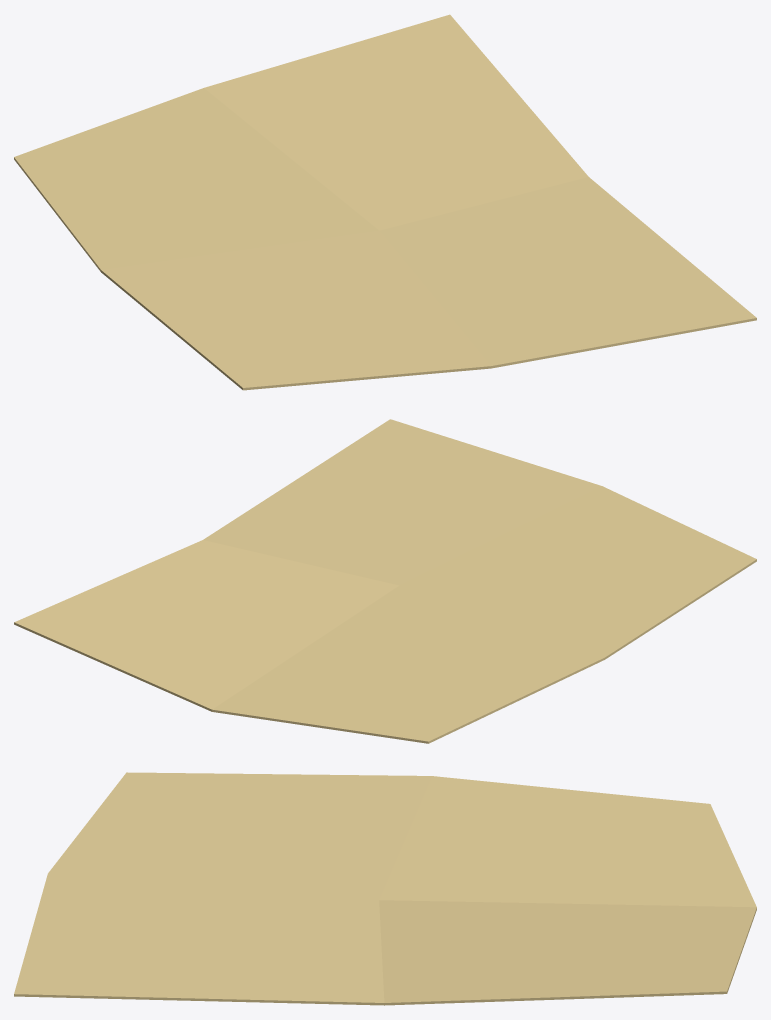
Rendered from Paper_003.fbx.
3 renders of one model, top to bottom at view 1: azimuth 30°, elevation 25°; view 2: azimuth 150°, elevation 25°; view 3: azimuth 270°, elevation 25°, orthographic. The views are drawn at different scales.
Visible parts, largest first — view 1: Paper_003; view 2: Paper_003; view 3: Paper_003.
Part boxes in pixels (<box>): Paper_003: <box>14,14,756,390</box>; Paper_003: <box>14,419,756,743</box>; Paper_003: <box>14,772,756,1005</box>.
Size of the model in its own units: 128 by 7.28 by 162.
